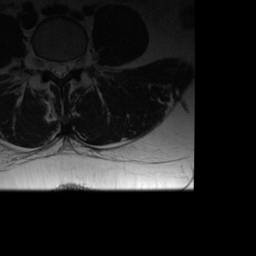CCS_normal: (56, 51, 64, 86)
LFS_normal: (72, 47, 80, 75)
LLS_normal: (64, 51, 72, 81)
RFS_normal: (40, 48, 49, 78)
RLS_normal: (49, 51, 56, 82)
